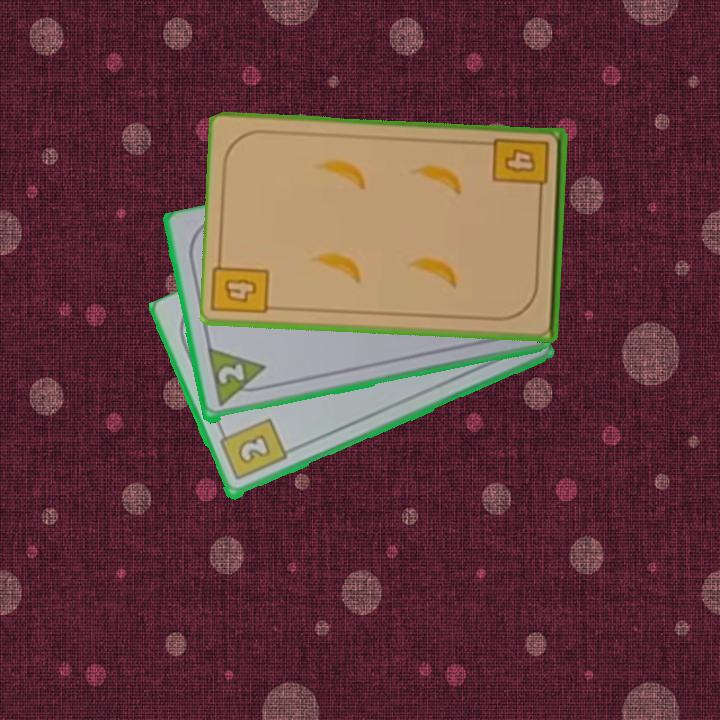2b: (215, 415, 290, 484)
2p: (204, 346, 272, 410)
4b: (490, 134, 552, 201), (220, 275, 259, 307)
